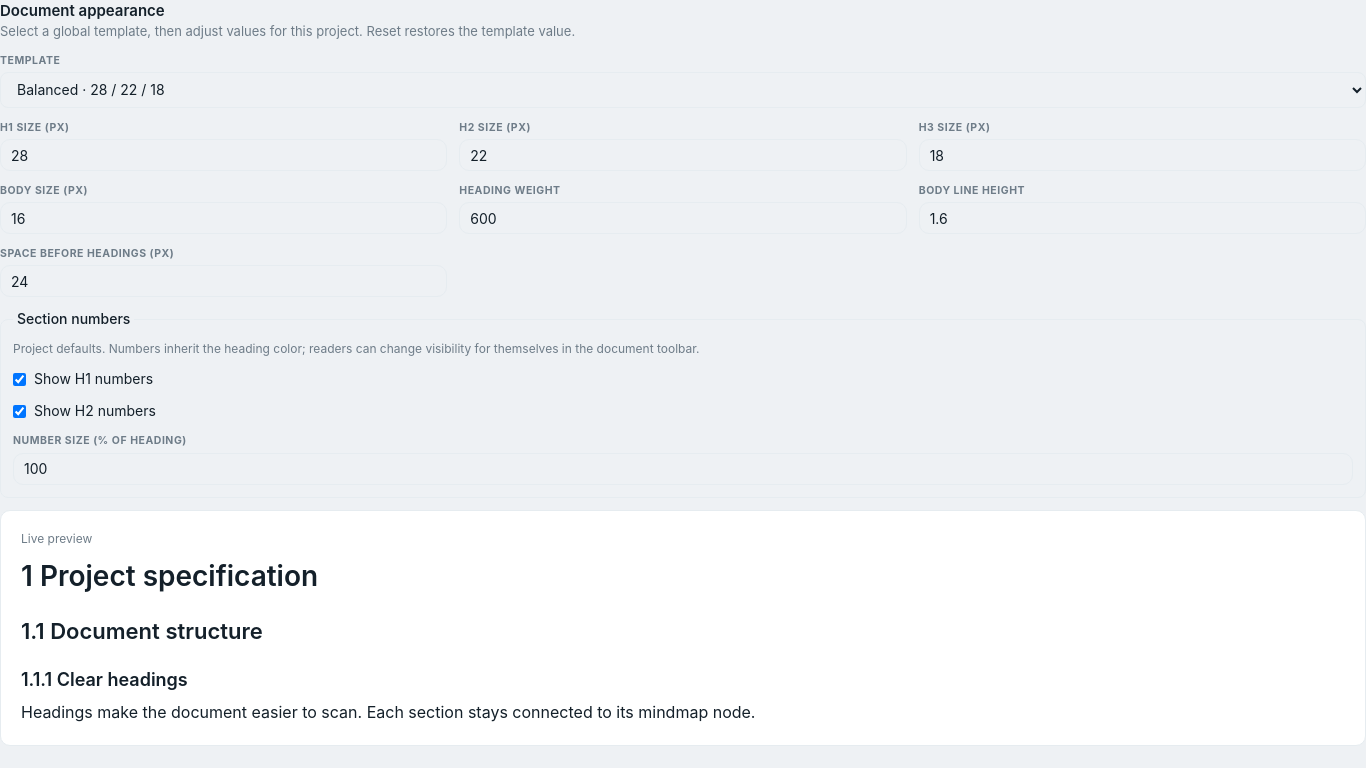
Test case: does not allow invalid number size to be saved and restores a cleared value on blur
The image size is (1366, 768).
Replace the text in the number field labelled "Number size (% of heading)" with "151": (683, 469) [13, 453, 1353, 485]
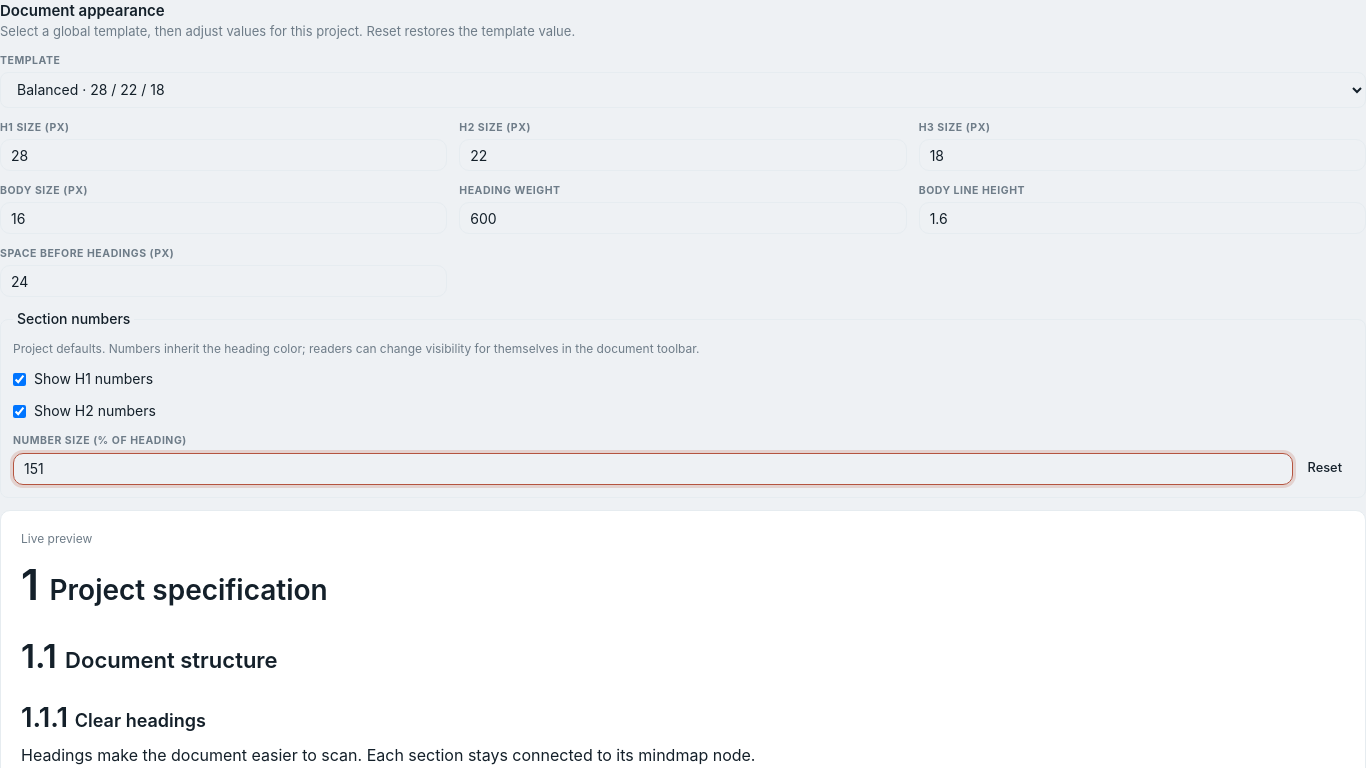
Clear the number field labelled "Number size (% of heading)": (653, 469) [13, 453, 1293, 485]
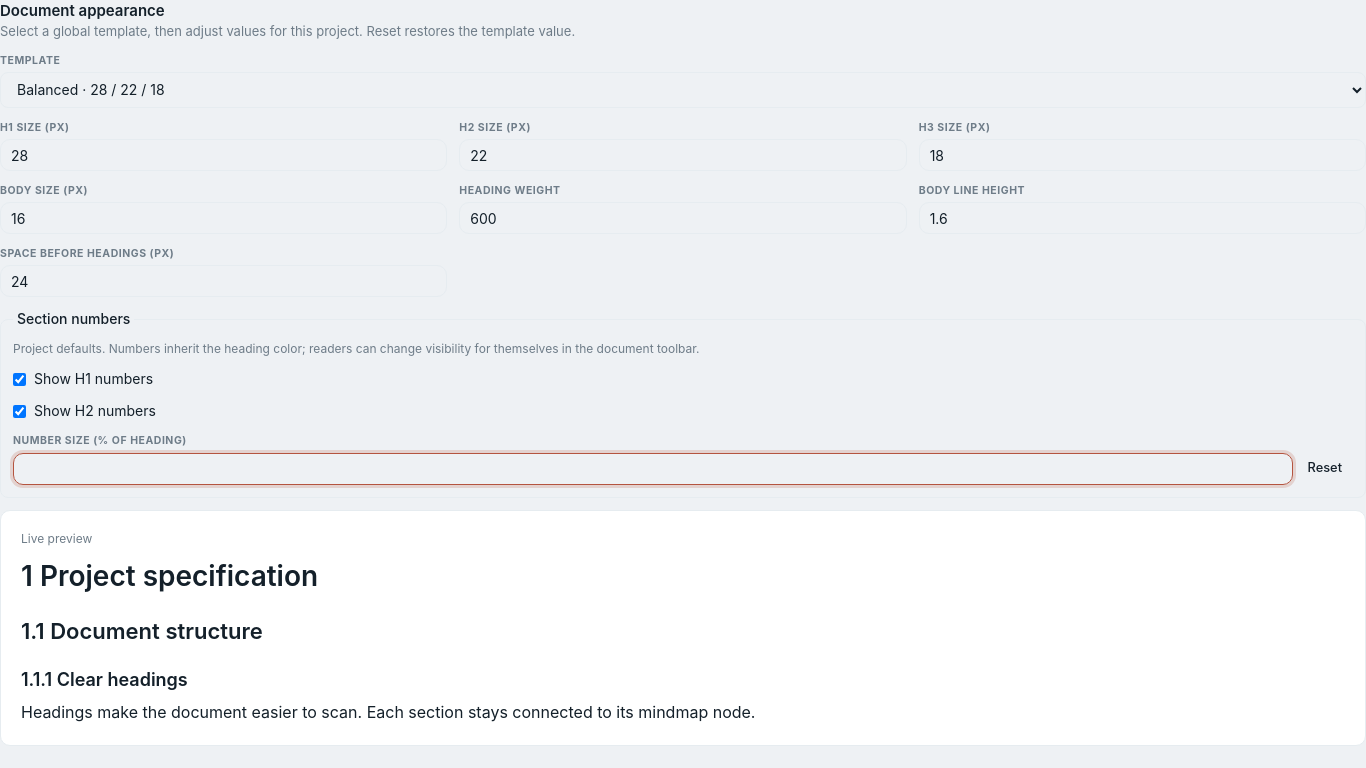
Leave the number field labelled "Number size (% of heading)", box [13, 453, 1293, 485]
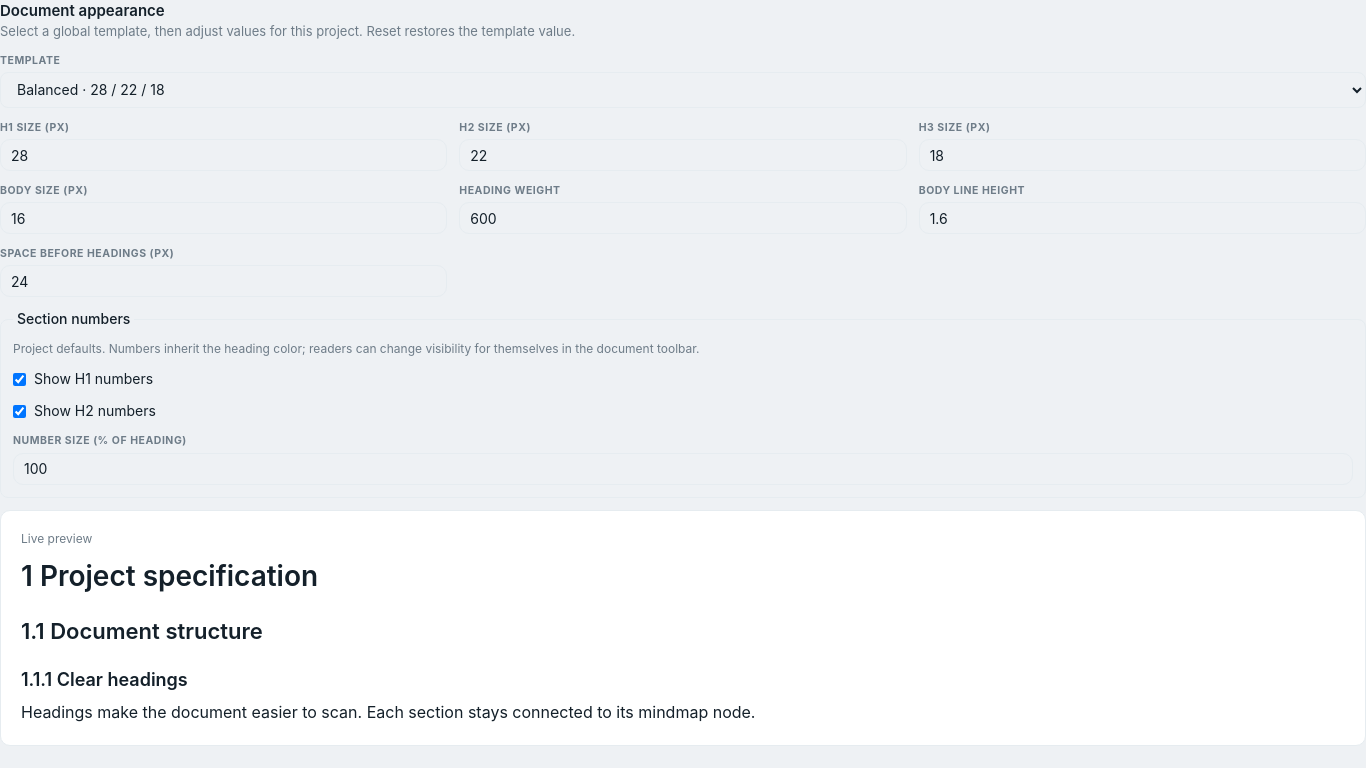
Check: the number field labelled "Number size (% of heading)" holds "100", box [13, 453, 1353, 485]
